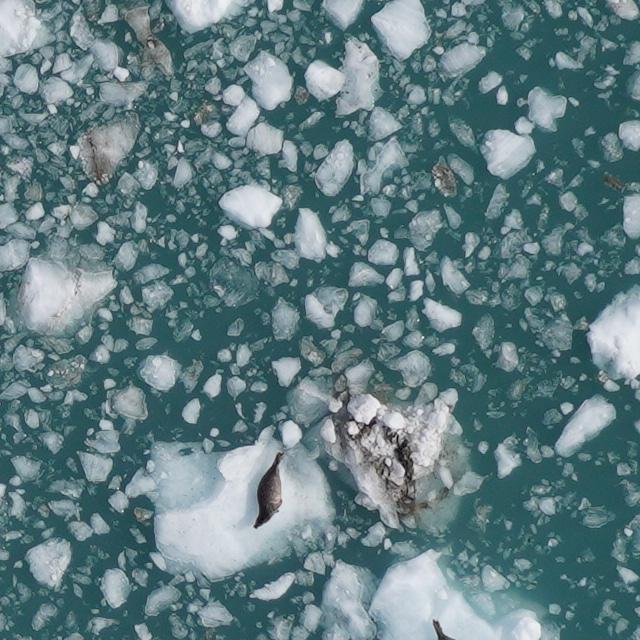seal: (252, 451, 283, 528), (425, 617, 453, 640)
